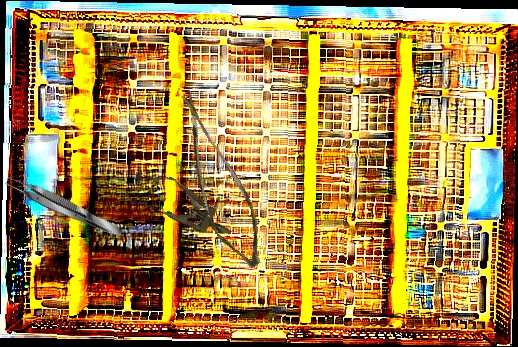Micro Scissor: (142, 89, 290, 275)
Speculum: (121, 161, 242, 253)
Tissue Forceps: (3, 172, 125, 242)
